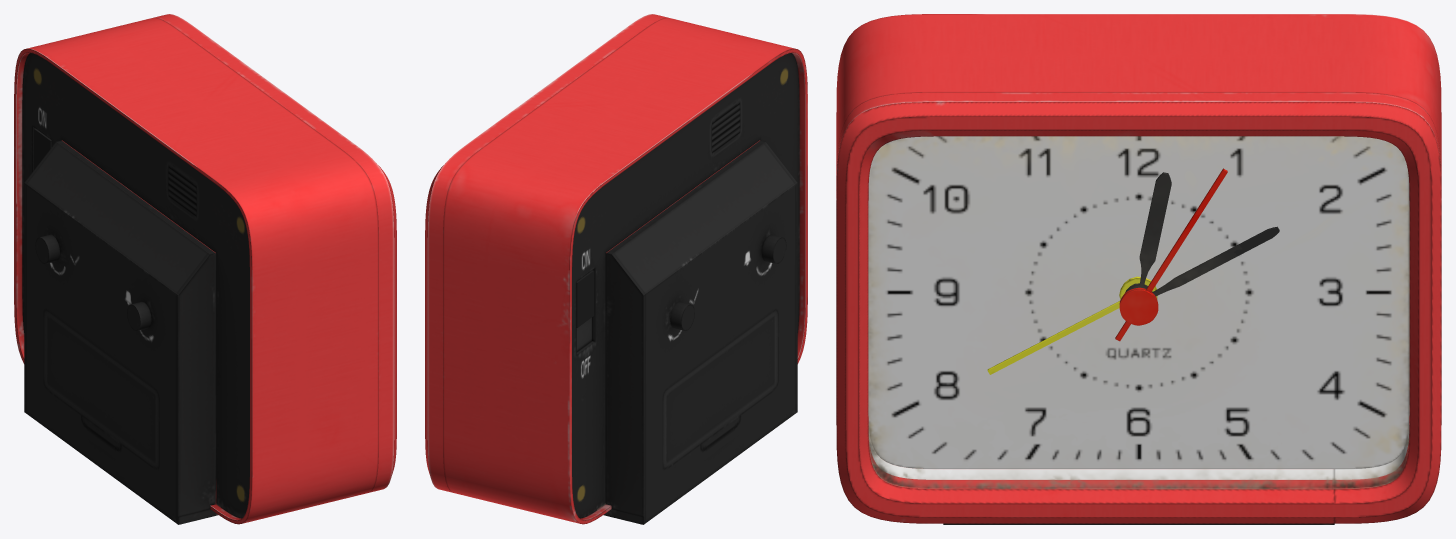
The picture shows the model from 3 angles, left to right: view 1: azimuth 30°, elevation 25°; view 2: azimuth 150°, elevation 25°; view 3: azimuth 270°, elevation 25°; orthographic projection. The views are drawn at different scales.
Parts seen in each view (by area): view 1: Case; view 2: Case; view 3: Case, Glass, SeecondArm, HourArm, MinuteArm, AlarmArm.
Part boxes in pixels (<box>): Case: <box>14,14,396,524</box>; Case: <box>425,14,807,524</box>; Case: <box>836,14,1441,524</box>; Glass: <box>868,136,1409,489</box>; SeecondArm: <box>1115,168,1227,341</box>; HourArm: <box>1125,172,1171,292</box>; MinuteArm: <box>1152,226,1279,296</box>; AlarmArm: <box>987,276,1157,374</box>.
Size of the model in its own units: 0.0595 by 0.0974 by 0.1235.
Materials: 1 (1 with a texture image).
